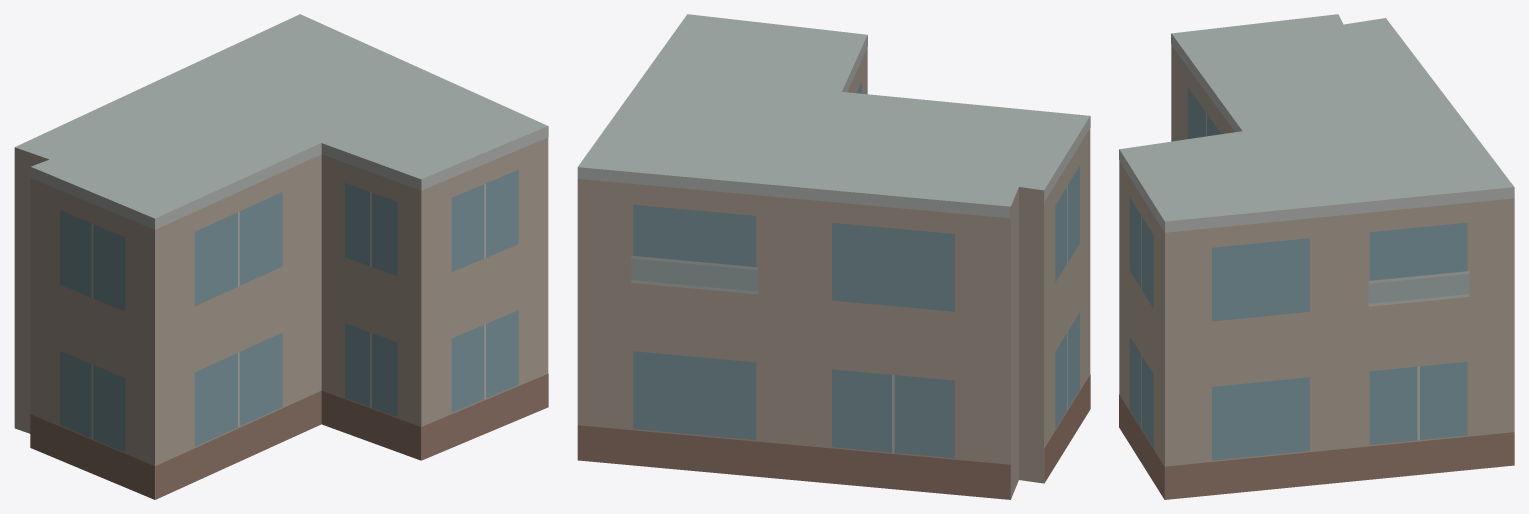
File: survey-upis-32494585.glb
3 renders of one model, left to right at view 1: azimuth 30°, elevation 25°; view 2: azimuth 150°, elevation 25°; view 3: azimuth 270°, elevation 25°, orthographic. The views are drawn at different scales.
Parts seen in each view (by area): view 1: survey-upis-32494585.tmp; view 2: survey-upis-32494585.tmp; view 3: survey-upis-32494585.tmp.
Boxes of the visible parts, box(x1,y1,x2,y2) form: survey-upis-32494585.tmp: box(14, 14, 548, 499); survey-upis-32494585.tmp: box(577, 14, 1090, 499); survey-upis-32494585.tmp: box(1119, 14, 1514, 499).
Bounding box in the file's own units: 9.77 × 6.1 × 7.87.
